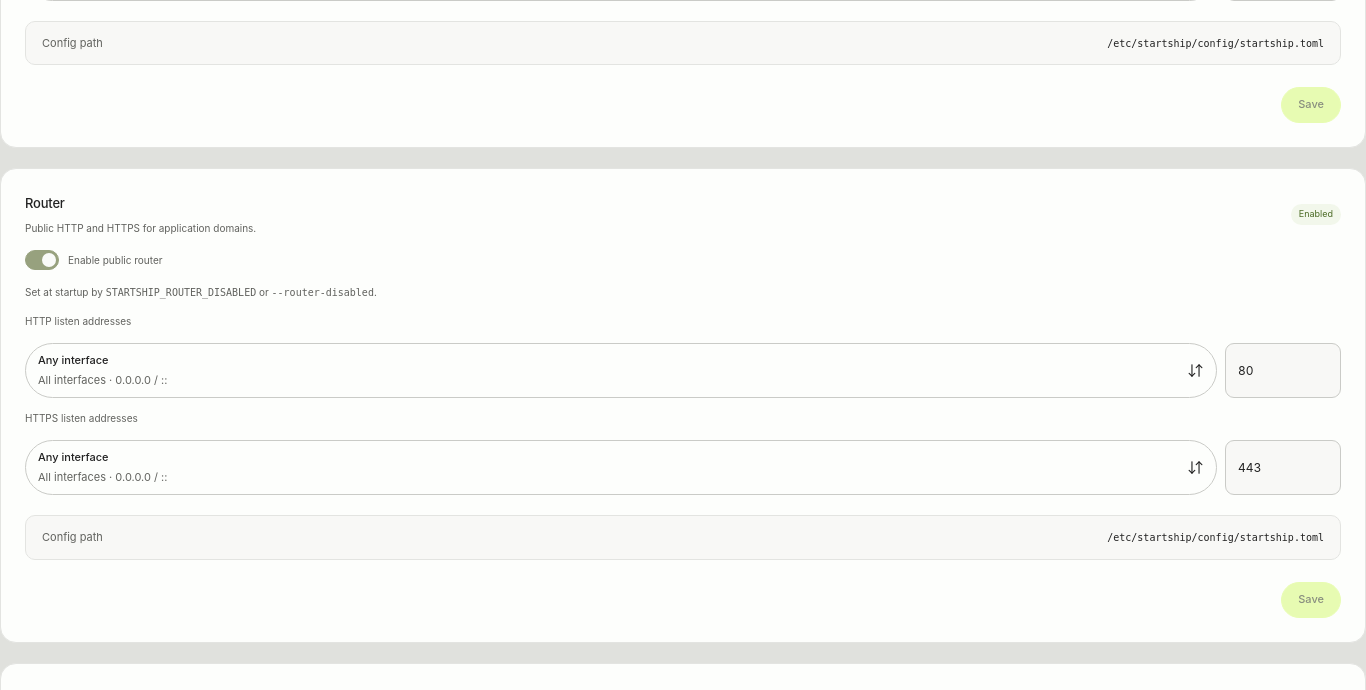
Test: node router settings › keeps listeners editable when the router toggle is locked and displays the API error: proxy: cannot listen on :8888 (address already in use)
(page scrolled)
Expected: the switch is disabled, [25,250,59,270]
Expected: the field named "HTTPS listen addresses port" is enabled, [1225,440,1341,496]
Type "8888" into the field named "HTTP listen addresses port". click: (1283, 371)
box: [1225,343,1341,398]
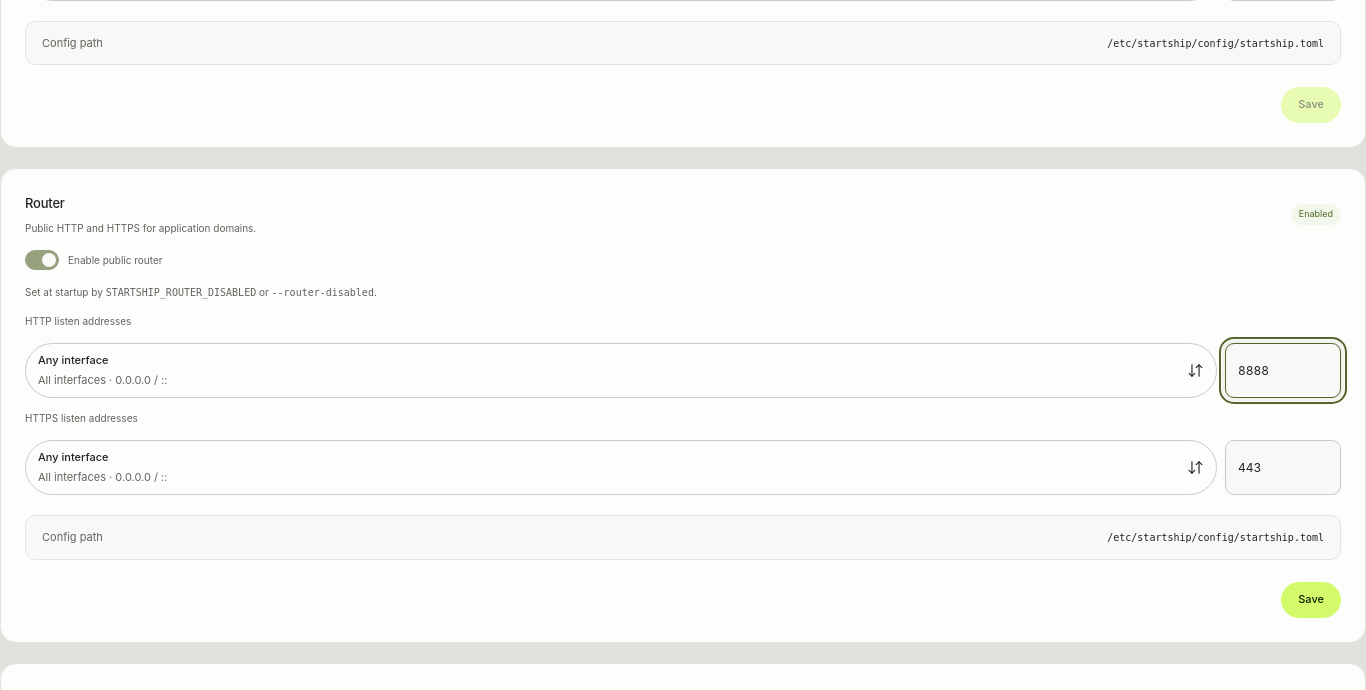
Click the 2nd button "Save". click: (1311, 600)
box: [1281,582,1341,618]
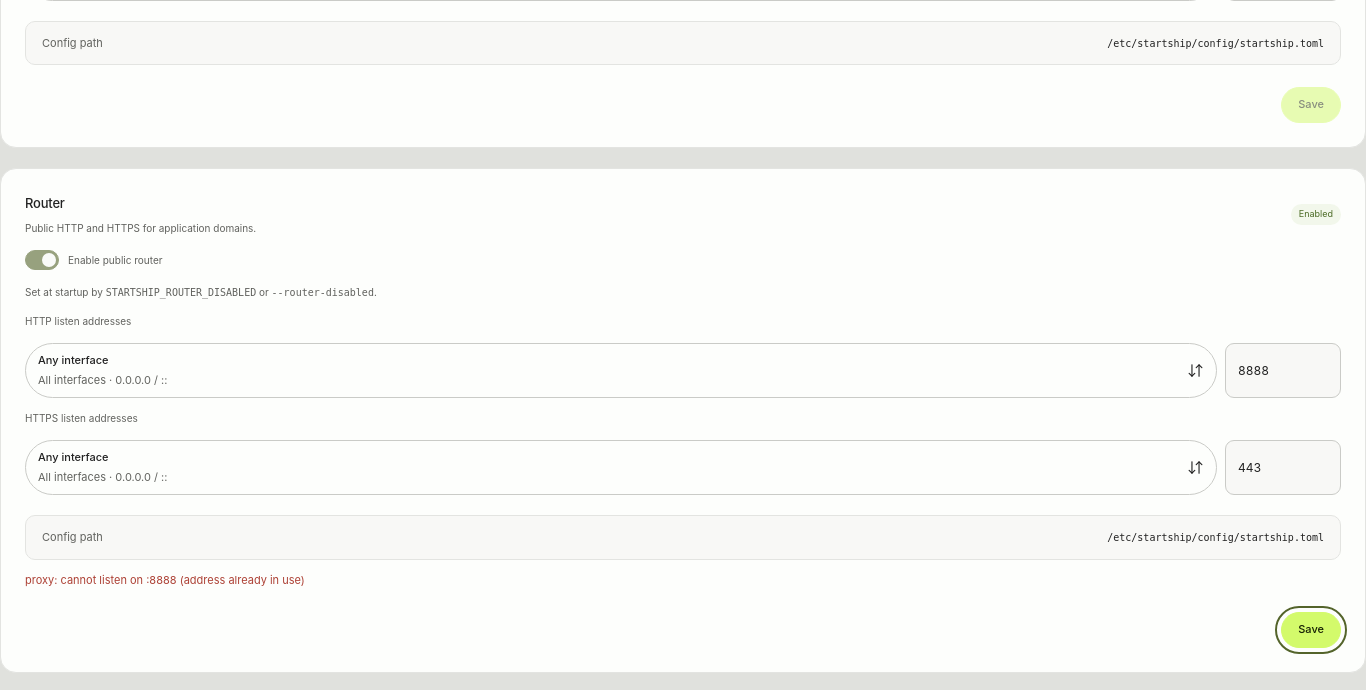
Result: the message "proxy: cannot listen on :8888 (address already in use)" is shown at [25,573,305,587]
